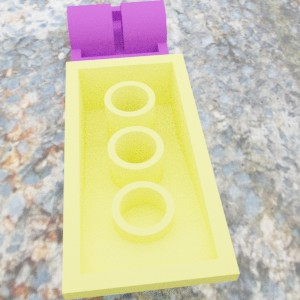lego: (62, 53, 239, 300), (66, 0, 170, 80)
